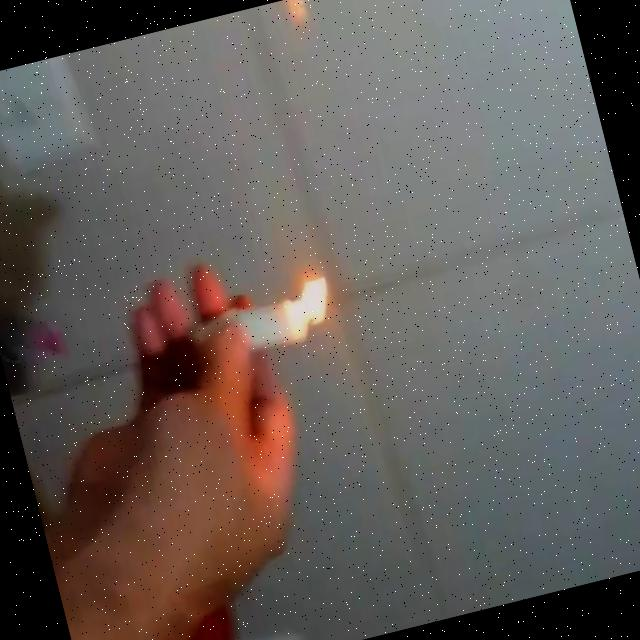fire: (293, 271, 338, 329)
